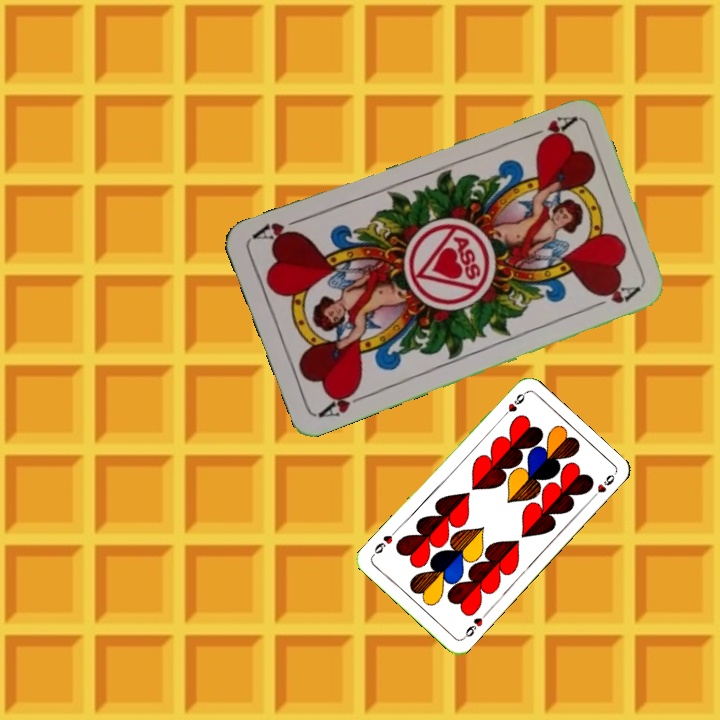H9: (458, 609, 490, 642), (497, 389, 529, 422)
HA: (315, 382, 372, 420), (519, 111, 577, 143)
